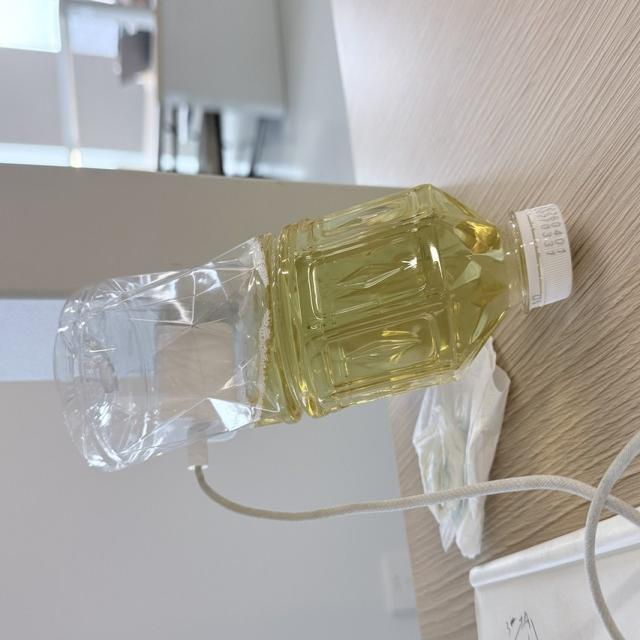medium: (56, 185, 571, 469)
